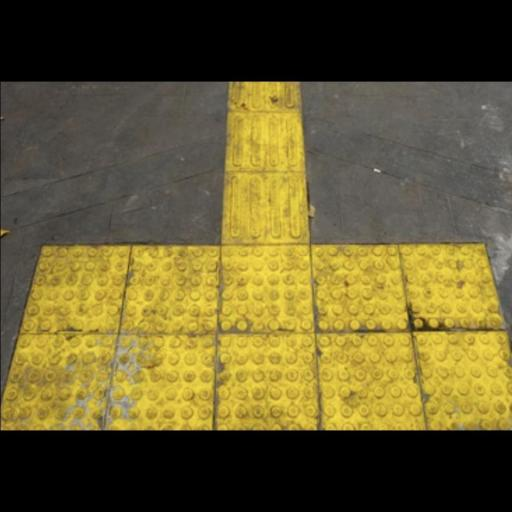dot: (315, 329, 428, 433), (101, 334, 216, 431), (213, 333, 321, 432), (17, 245, 131, 334), (413, 329, 511, 431), (403, 240, 506, 334), (312, 244, 412, 337), (117, 246, 219, 337), (217, 244, 315, 337)
line: (222, 170, 309, 247), (223, 111, 307, 173)
